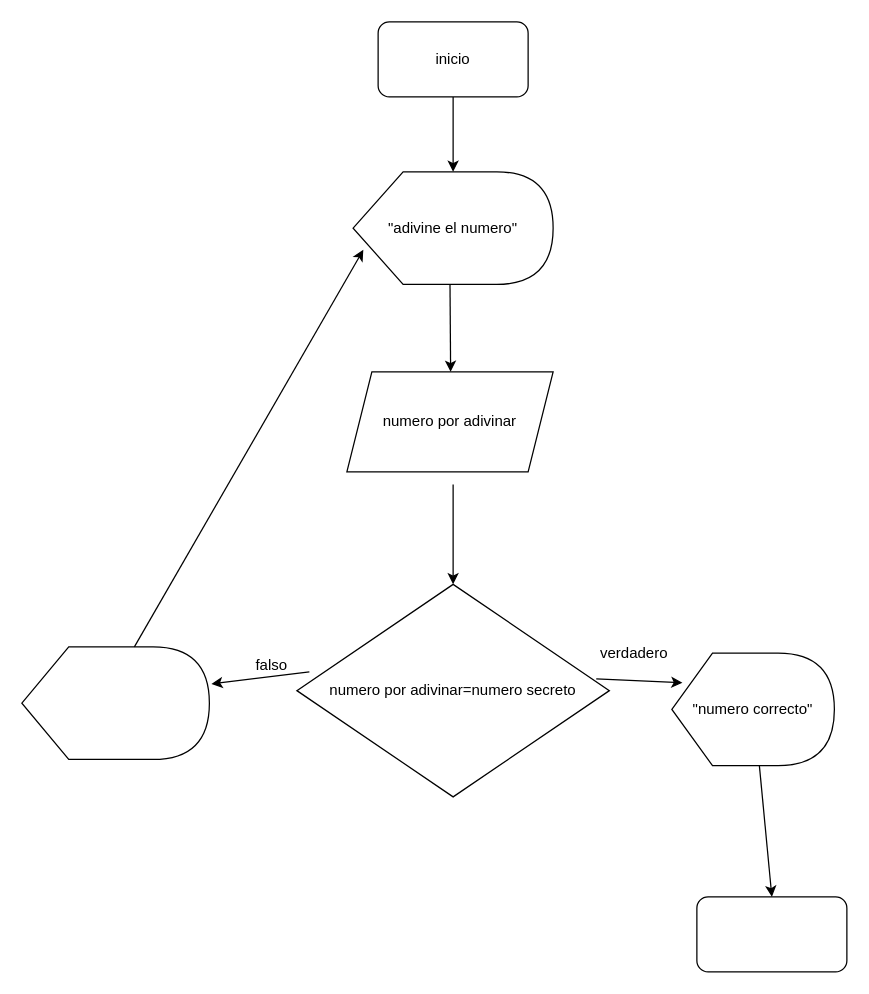
The diagram is 869 pixels wide and 994 high, and some of its shapes have lost their labels. The box of each missing label's shape, as (x1, y1, x2, y2) in pixels:
"intente de nuevo": (21, 646, 209, 759)
fin: (696, 896, 847, 972)
